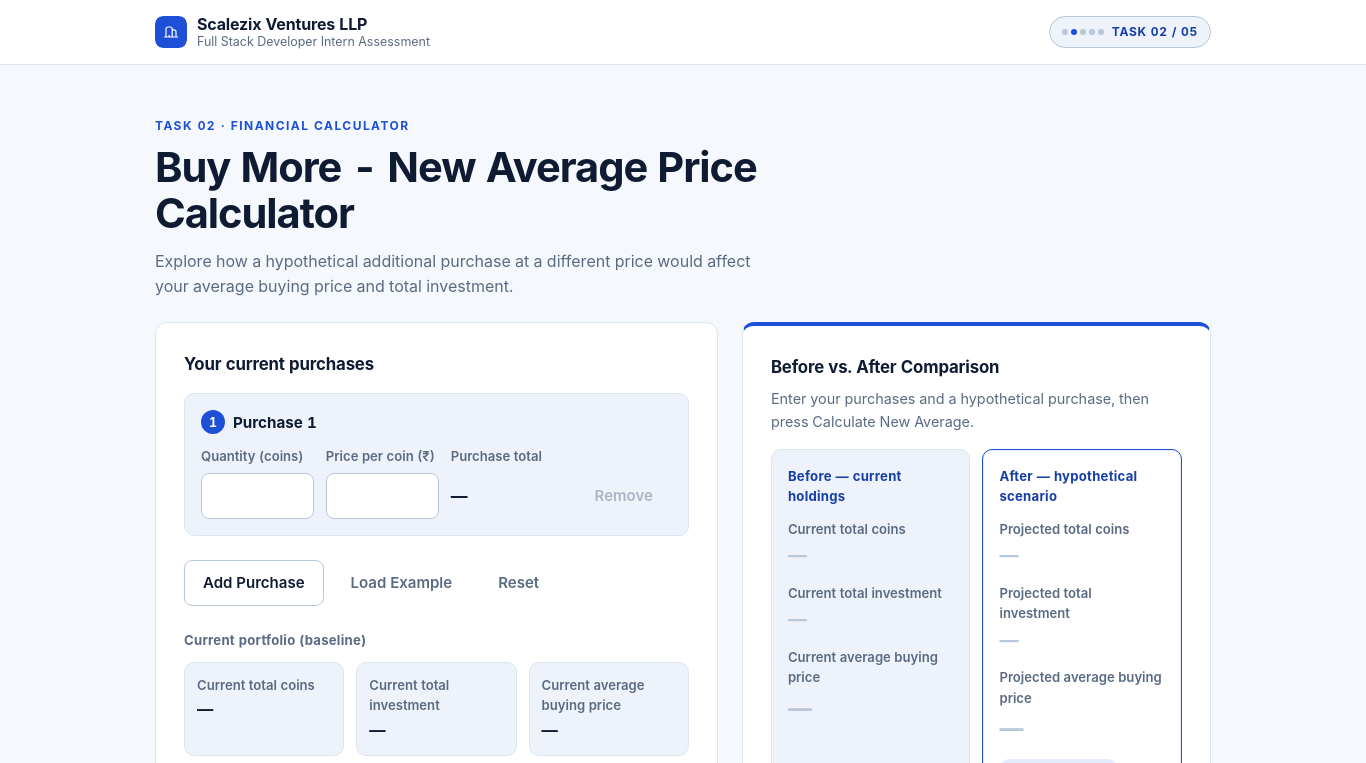
Test case: rows, reset and example › adds and removes rows but keeps at least one
The image size is (1366, 763).
Click the button "Add Purchase". click: click(254, 583)
box: x1=184 y1=560 x2=324 y2=606
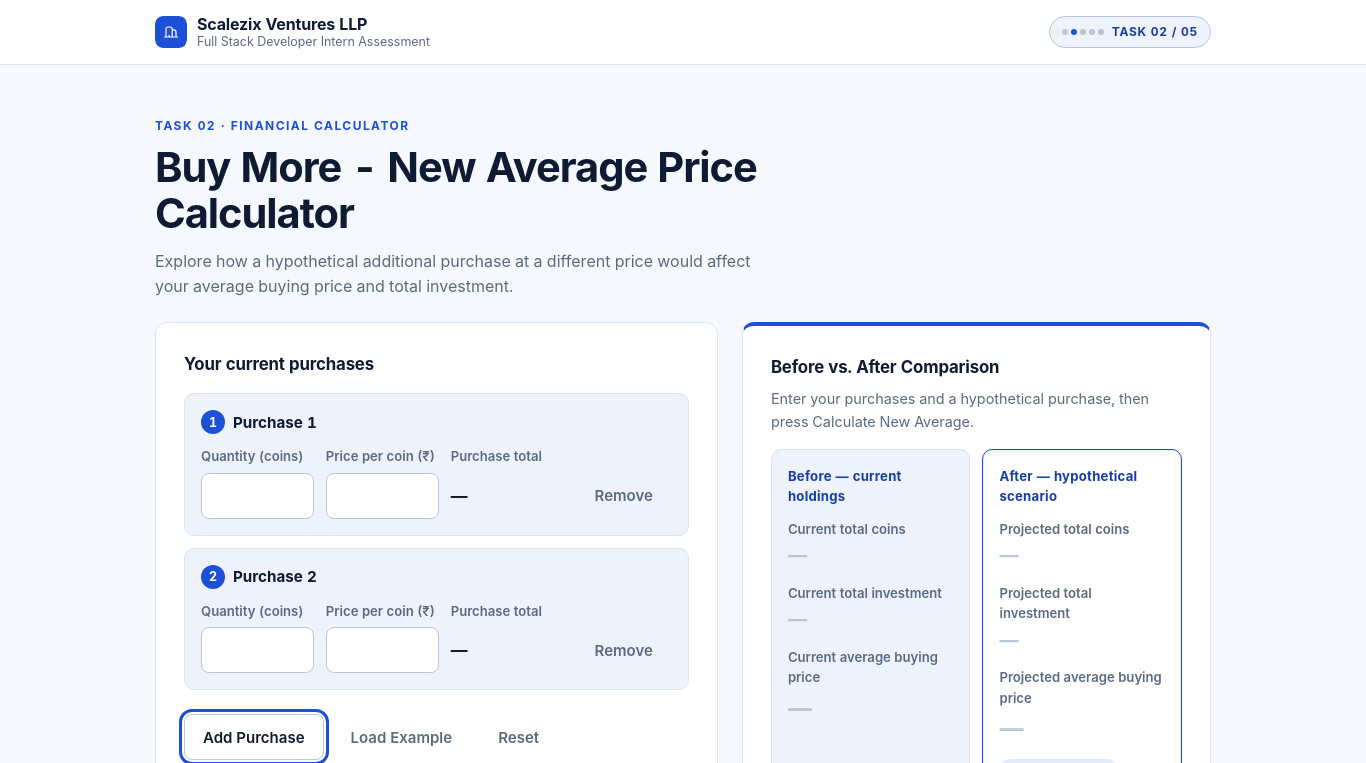
Result: the number of fields labelled "Quantity (coins)" is 2 at x1=201 y1=473 x2=314 y2=519; x1=201 y1=627 x2=314 y2=673
Click the button with aria-label "Remove purchase 2". click: click(624, 650)
box: x1=576 y1=627 x2=672 y2=673
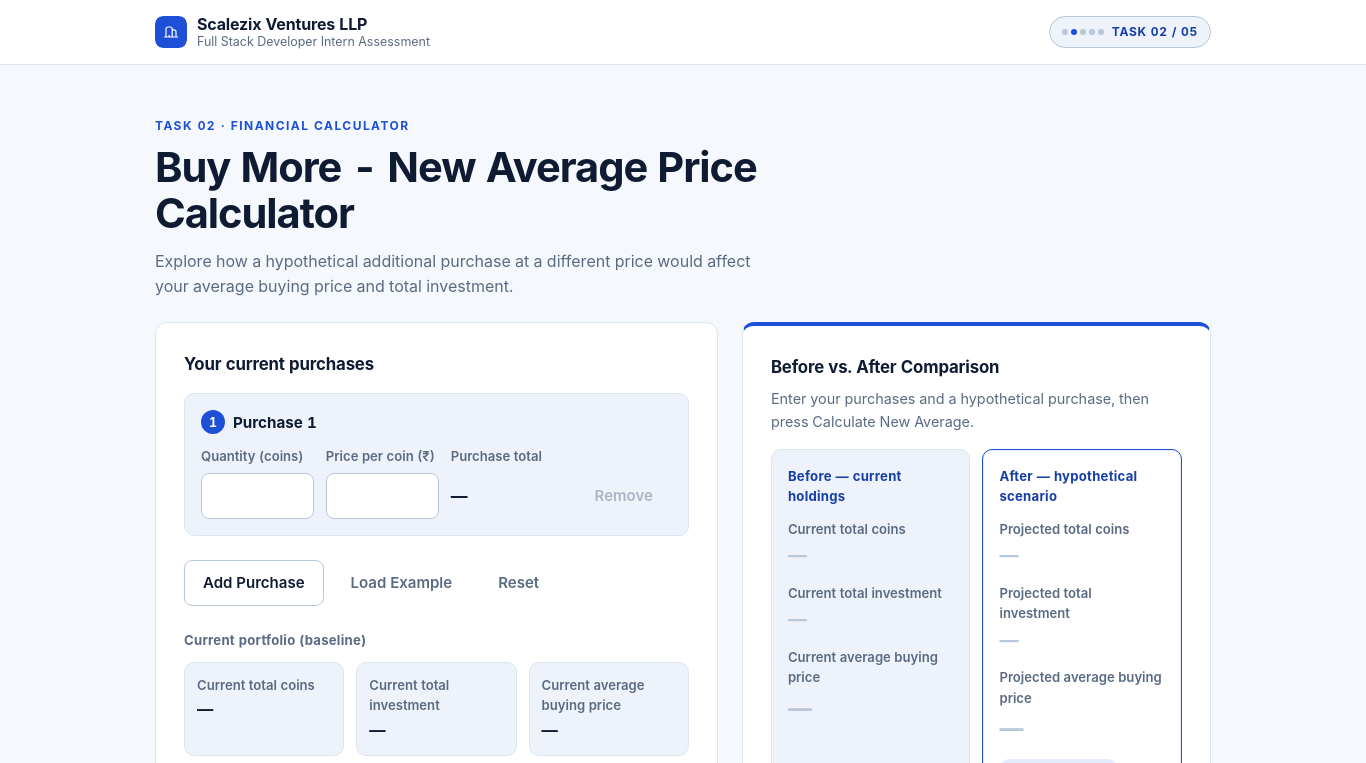
Result: the number of fields labelled "Quantity (coins)" is 1 at x1=201 y1=473 x2=314 y2=519
Result: the button with aria-label "Remove purchase 1" is disabled at x1=576 y1=473 x2=672 y2=519
